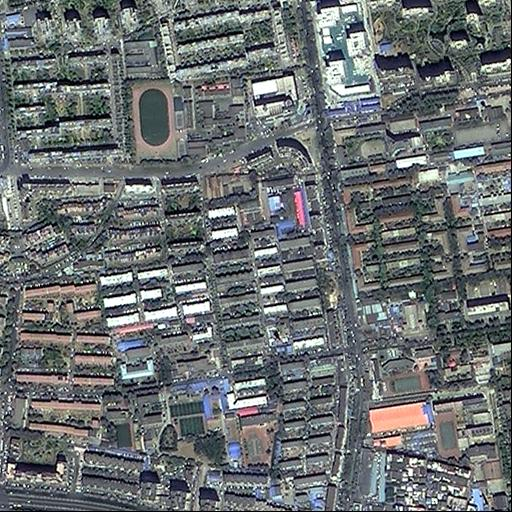school: (371, 341, 437, 397), (431, 396, 482, 457), (235, 403, 279, 471), (103, 394, 137, 453)
